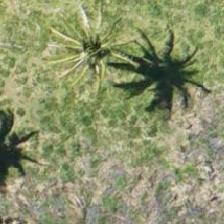coconut_tree: (99, 24, 189, 114)
